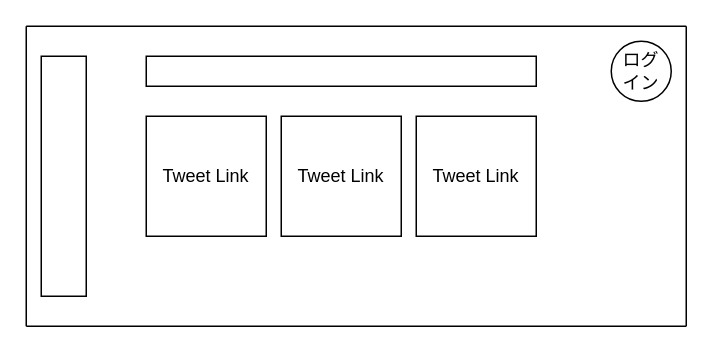
This 714x354 diagram has some shape labels left out. The shapes that lost their labels are listed below. From the top down, each one's centre as x and y in pixels, then its label:
At point 340,70: "検索".
At point 63,175: "ストック お気に入".
